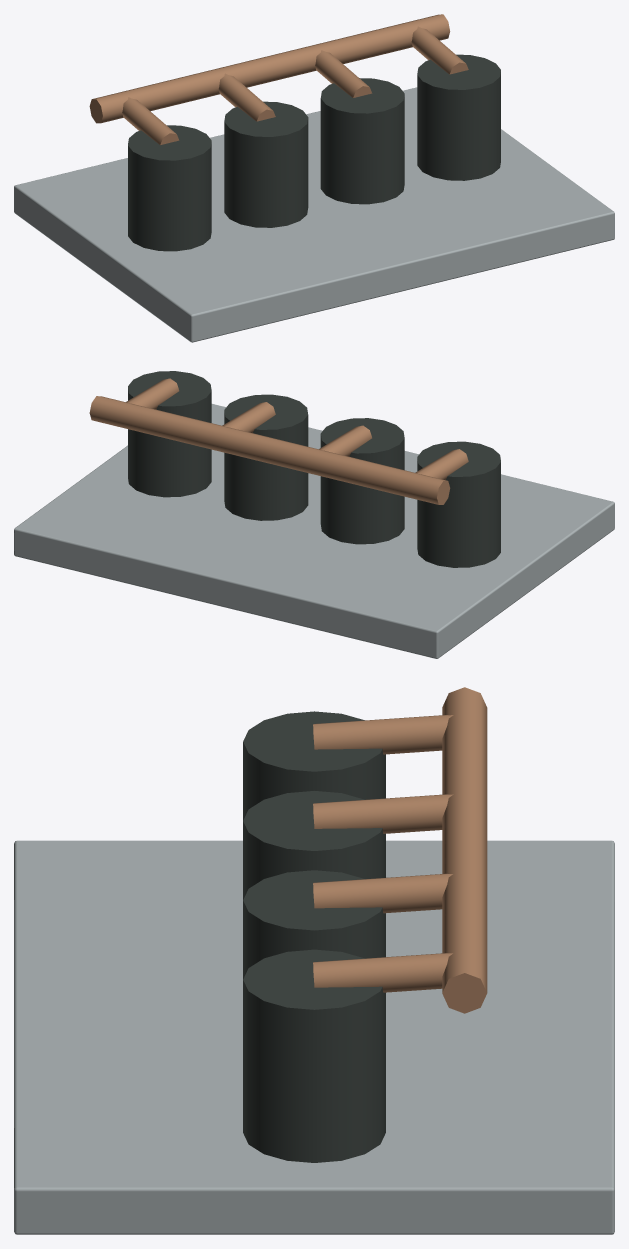
Rendered from off-grid-power-and-controls-rectifier-bank-2a9c4c77__2988.glb.
3 renders of one model, top to bottom at view 1: azimuth 30°, elevation 25°; view 2: azimuth 150°, elevation 25°; view 3: azimuth 270°, elevation 25°, orthographic. The views are drawn at different scales.
Parts seen in each view (by area): view 1: rectifier-bank; view 2: rectifier-bank; view 3: rectifier-bank.
Boxes of the visible parts, bbox=[...] form: rectifier-bank: bbox=[14, 14, 614, 342]; rectifier-bank: bbox=[14, 371, 614, 658]; rectifier-bank: bbox=[14, 687, 614, 1234].
Bounding box in the file's own units: 0.22 × 0.068 × 0.16.
